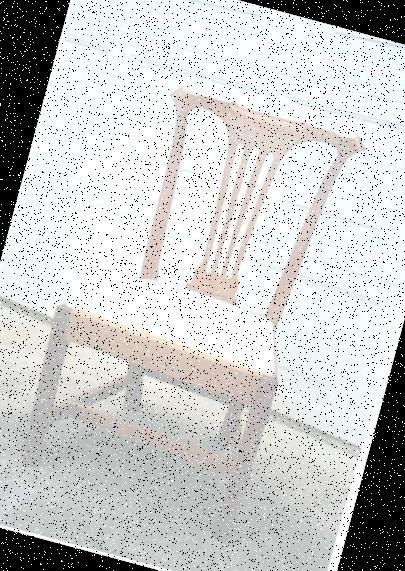Silla: (12, 74, 363, 550)
